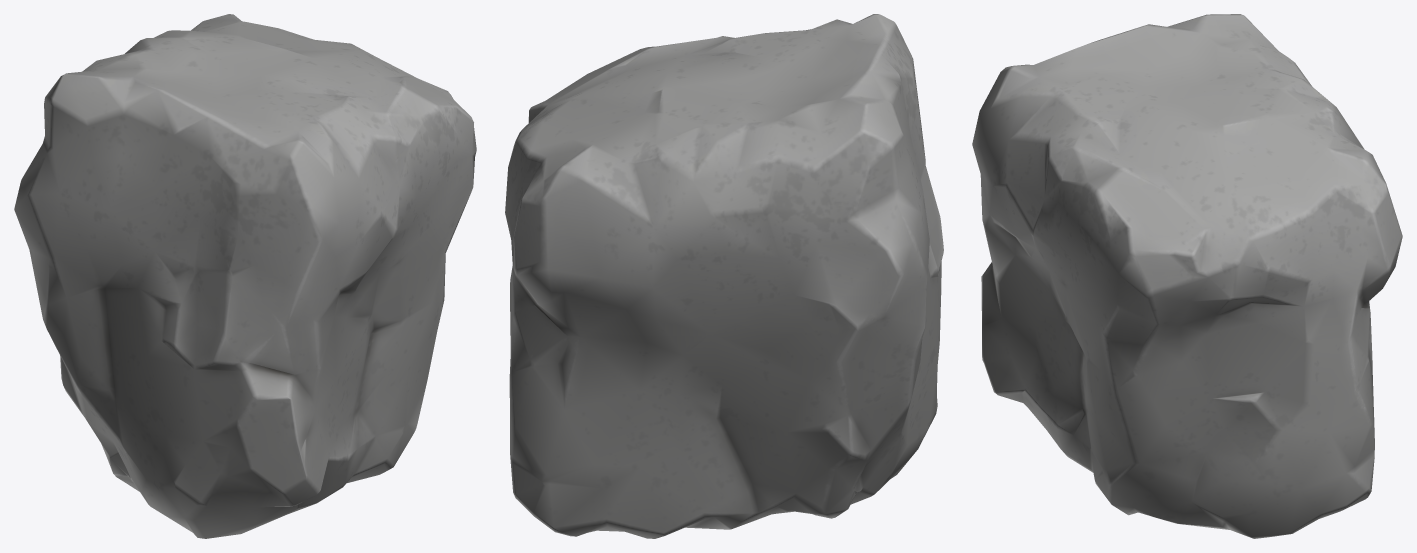
The model's file is Urock05.fbx.
3 renders of one model, left to right at view 1: azimuth 30°, elevation 25°; view 2: azimuth 150°, elevation 25°; view 3: azimuth 270°, elevation 25°, orthographic. The views are drawn at different scales.
Parts seen in each view (by area): view 1: rock05; view 2: rock05; view 3: rock05.
Boxes of the visible parts, x1,y1,x2,y2 form: rock05: (14,14,476,538); rock05: (505,14,943,538); rock05: (972,14,1402,538).
Bounding box in the file's own units: 716 × 742 × 711.
Materials: 1 (1 with a texture image).
